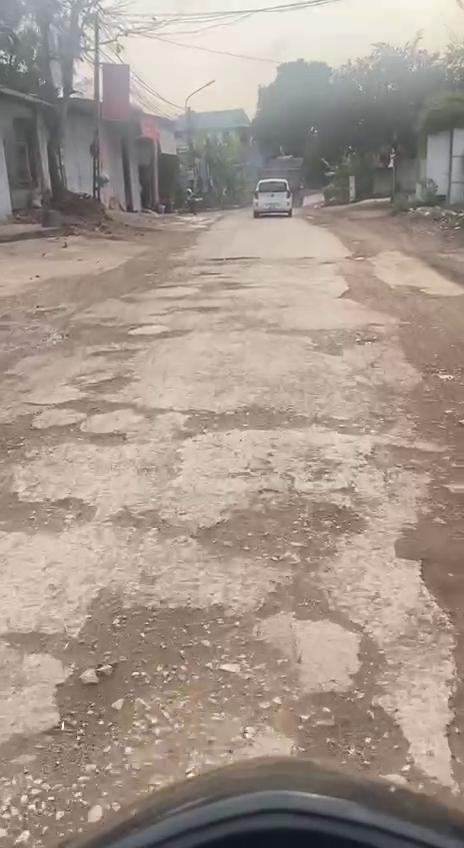pothole: (0, 578, 408, 828), (191, 490, 366, 568), (0, 367, 156, 452), (399, 508, 464, 624), (0, 475, 104, 538), (176, 402, 305, 437), (370, 439, 458, 485)
